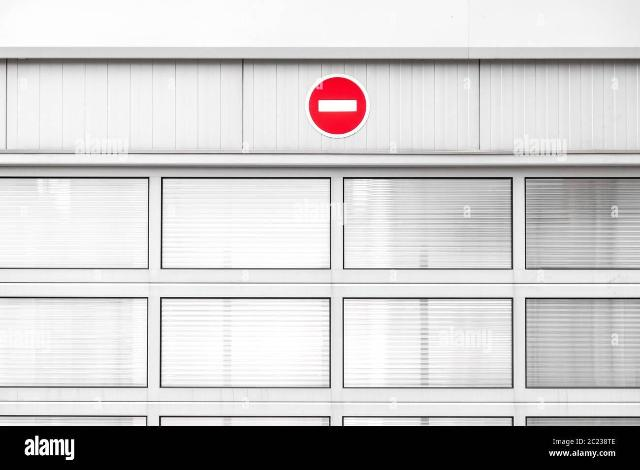B2: (308, 78, 364, 136)
